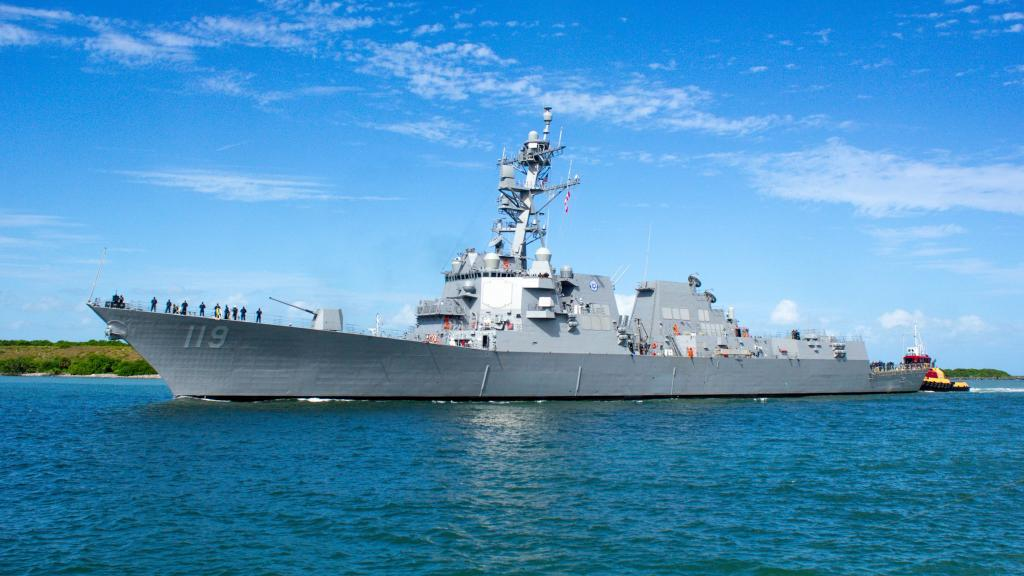Warship: (80, 105, 938, 405)
